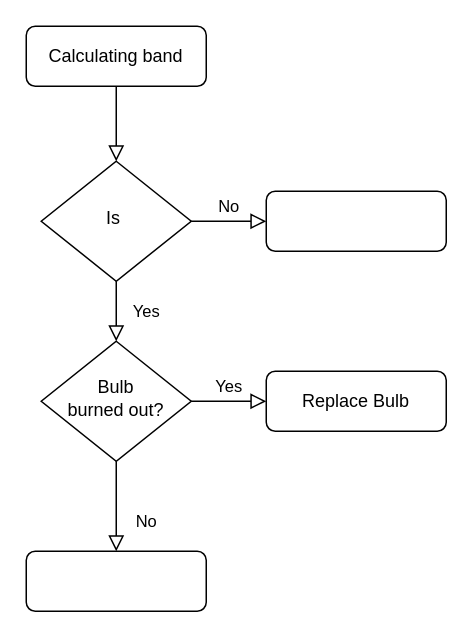
Some shapes in this 473 by 638 pixel diagram are drawn without their labels. The shapes that lost their labels are listed below. From the top down, each one's centre as x and y in pixels, then its label:
At (355,220): "Plug in lamp".
At (115,580): "Repair Lamp".
